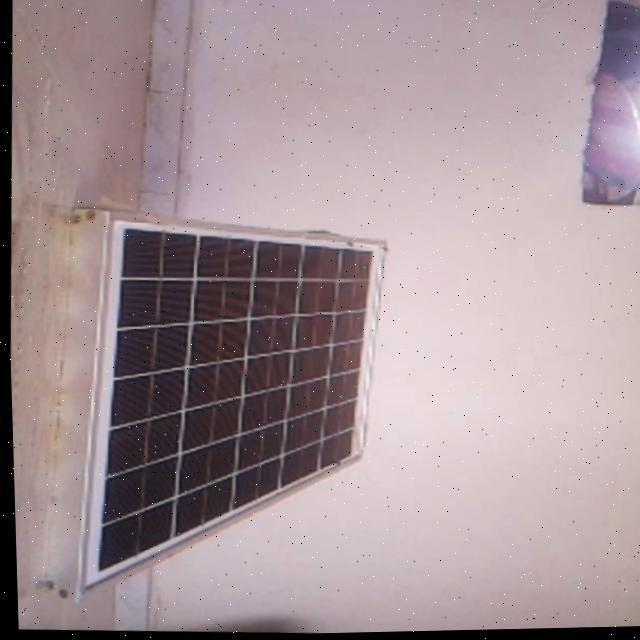Normal Solar Panel: (36, 205, 392, 611)
